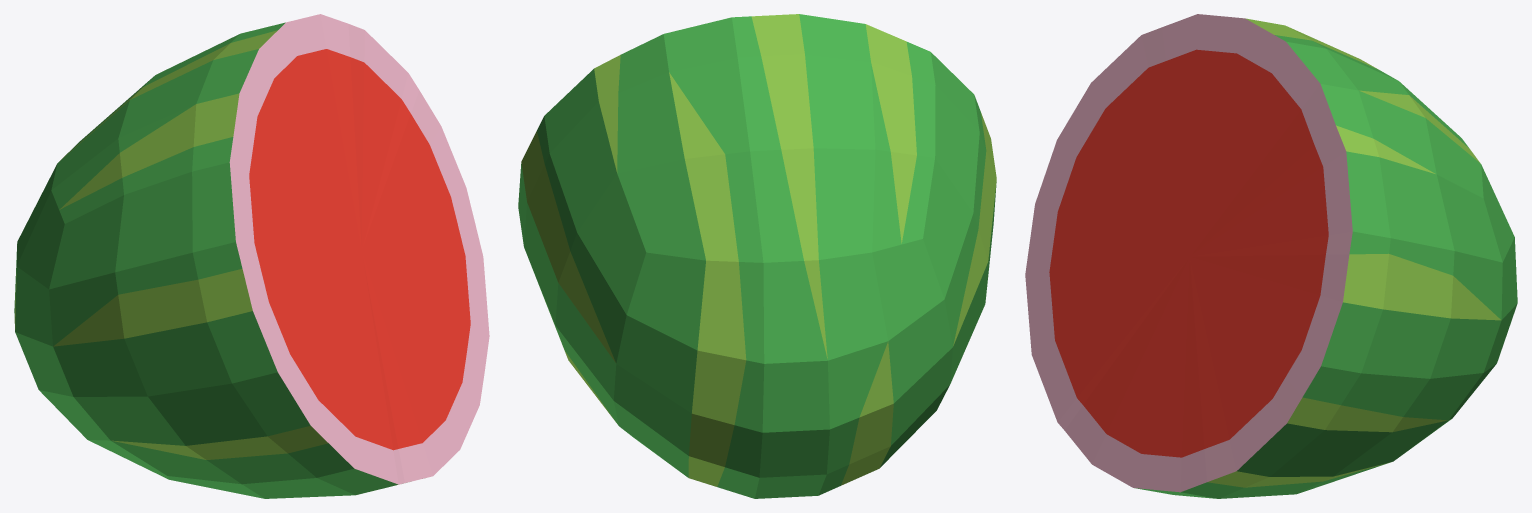
The model's file is watermelon.glb.
3 views of the same model, side by side, from view 1: azimuth 30°, elevation 25°; view 2: azimuth 150°, elevation 25°; view 3: azimuth 270°, elevation 25° (orthographic).
Parts seen in each view (by area): view 1: Roundcube.004; view 2: Roundcube.004; view 3: Roundcube.004.
Part boxes in pixels (<box>): Roundcube.004: <box>14,14,489,498</box>; Roundcube.004: <box>518,14,996,498</box>; Roundcube.004: <box>1025,14,1517,498</box>.
Bounding box in the file's own units: 2.91 × 2.86 × 2.9.
